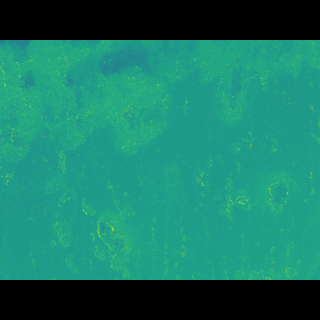Loch: (0, 69, 320, 168), (42, 171, 146, 244)
